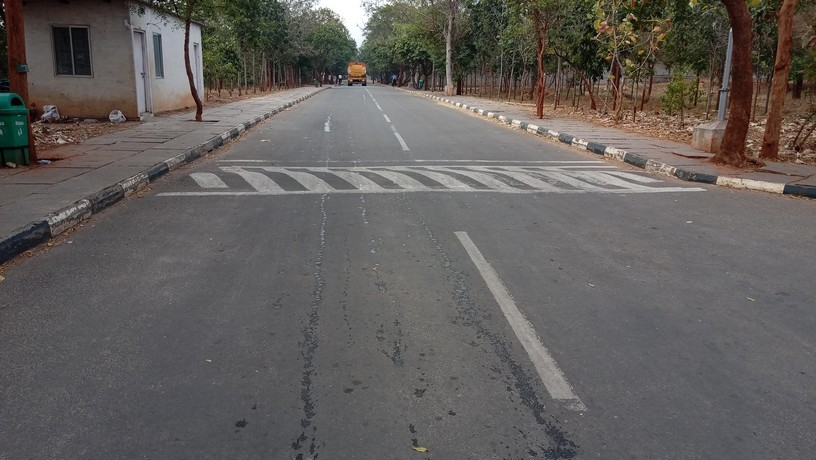bump: (149, 157, 718, 196)
